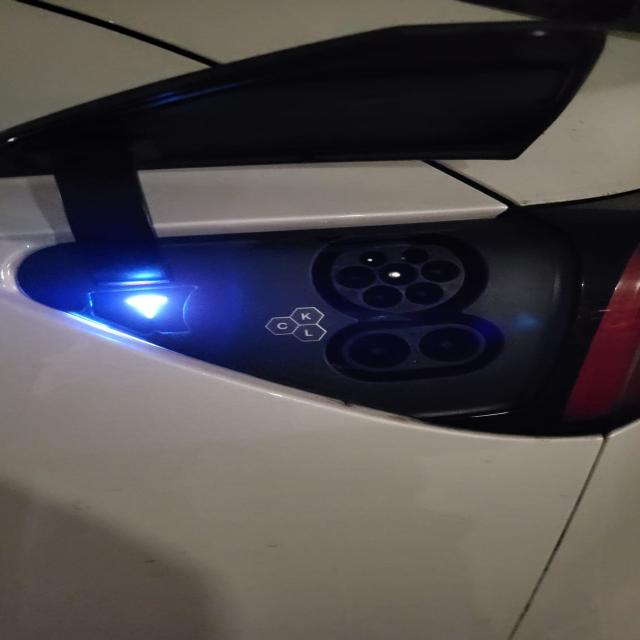inlet: (331, 245, 464, 312)
inlet-above-left: (359, 251, 386, 266)
inlet-above-right: (401, 248, 428, 264)
inlet-below-left: (362, 285, 402, 308)
inlet-below-right: (405, 282, 444, 305)
inlet-circle: (378, 263, 418, 286)
inlet-circle-left: (335, 266, 376, 289)
inlet-circle-right: (420, 260, 460, 283)
inlet-minus: (418, 327, 481, 362)
inlet-plus: (348, 333, 410, 368)
